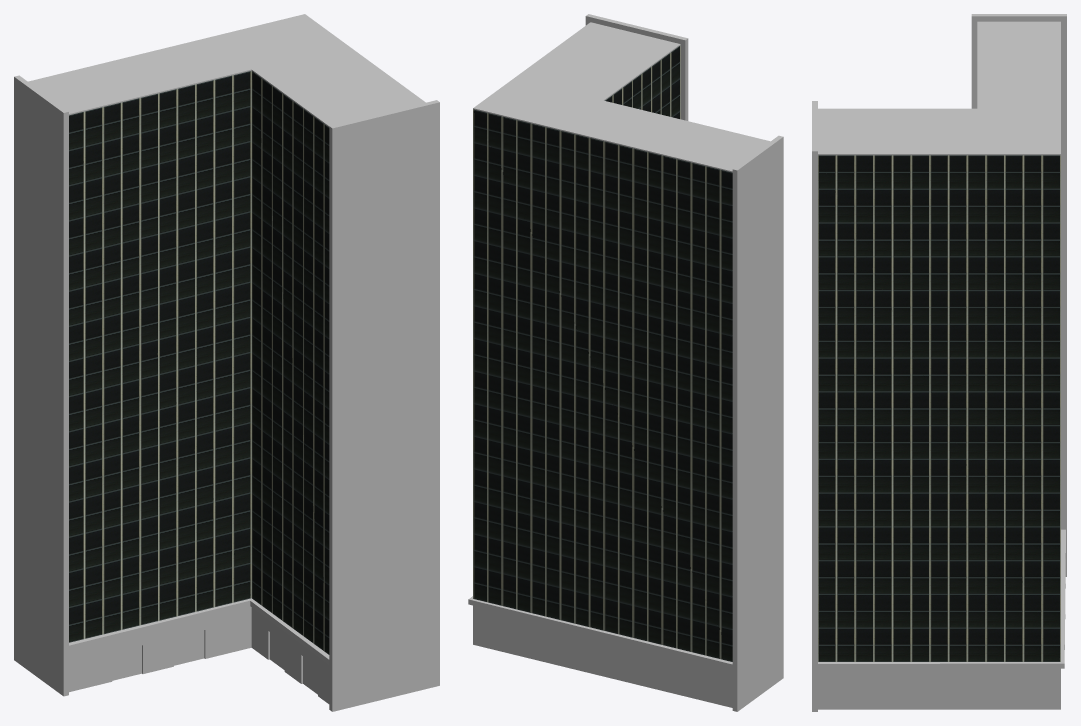
The picture shows the model from 3 angles, left to right: view 1: azimuth 30°, elevation 25°; view 2: azimuth 150°, elevation 25°; view 3: azimuth 270°, elevation 25°; orthographic projection. The views are drawn at different scales.
Visible parts, largest first — view 1: BC-093; view 2: BC-093; view 3: BC-093.
Boxes of the visible parts, x1,y1,x2,y2 form: BC-093: (14,14,439,711); BC-093: (468,14,783,711); BC-093: (812,14,1066,711).
Size of what is drawn, in the model's own units: 27.92 by 53.1 by 21.88.
